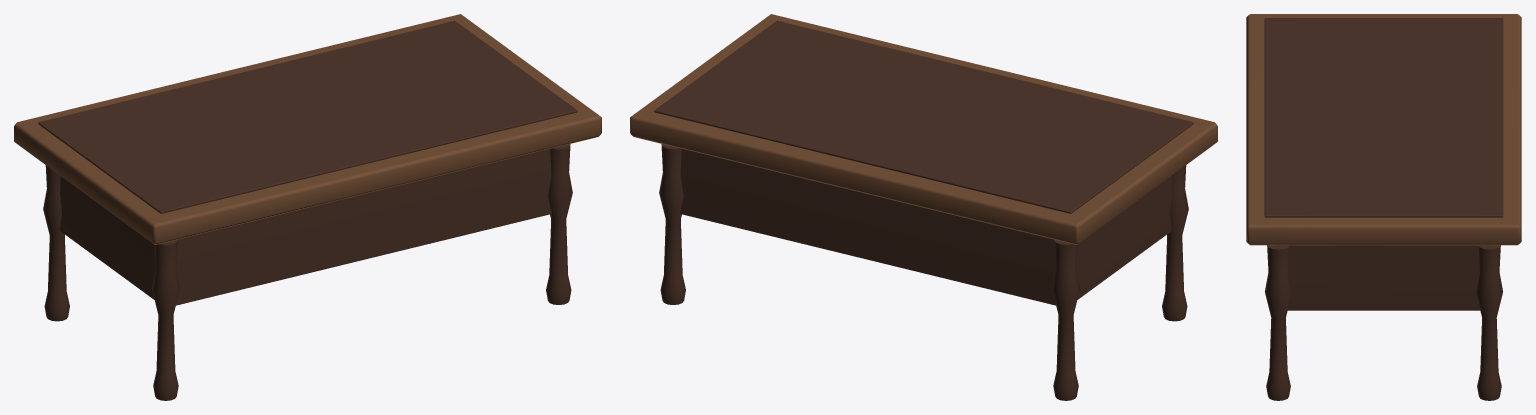
File: rpg-mansion-coffee-table-01.glb
3 views of the same model, side by side, from view 1: azimuth 30°, elevation 25°; view 2: azimuth 150°, elevation 25°; view 3: azimuth 270°, elevation 25° (orthographic). The views are drawn at different scales.
Parts seen in each view (by area): view 1: rpg-mansion-coffee-table-01; view 2: rpg-mansion-coffee-table-01; view 3: rpg-mansion-coffee-table-01.
Boxes of the visible parts, left/top/right/bottom form: rpg-mansion-coffee-table-01: left=14, top=14, right=601, bottom=400; rpg-mansion-coffee-table-01: left=630, top=14, right=1217, bottom=400; rpg-mansion-coffee-table-01: left=1246, top=14, right=1521, bottom=400.
Bounding box in the file's own units: 1.1 × 0.45 × 0.6.
